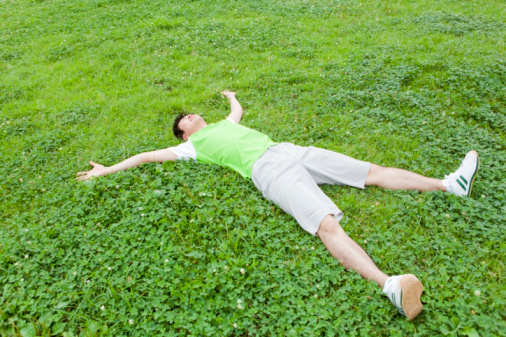deitado: (57, 81, 504, 312)
